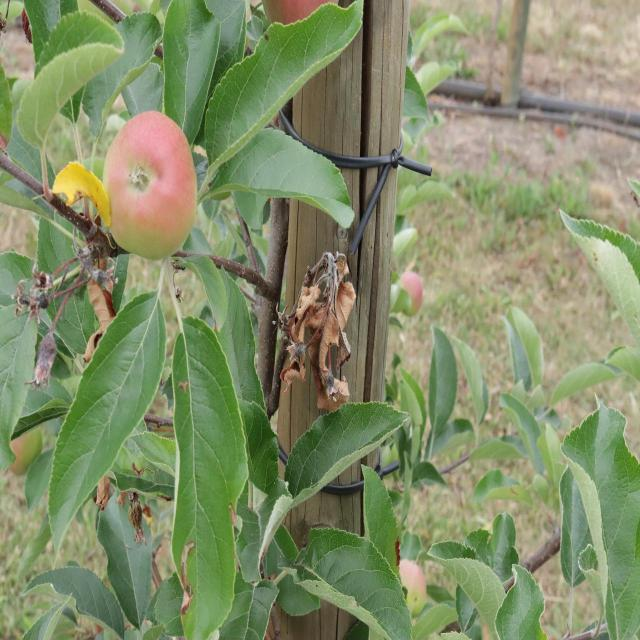-FireBlight-: (274, 258, 364, 410), (72, 260, 108, 356)
